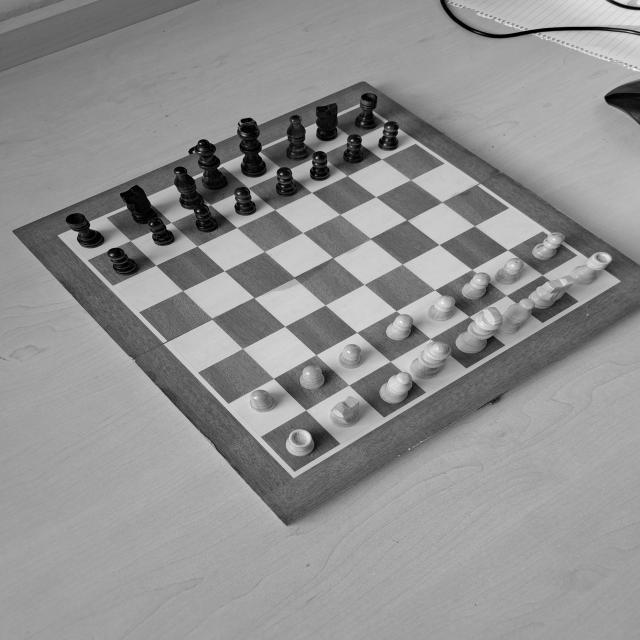chess-table-corners: (282, 462, 306, 480), (601, 273, 624, 288), (351, 101, 374, 115), (54, 232, 72, 242)
